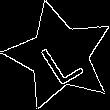L_NW: (32, 27, 87, 86)
